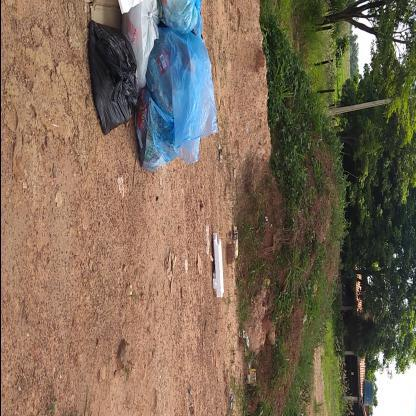lixo: (77, 0, 222, 169)
